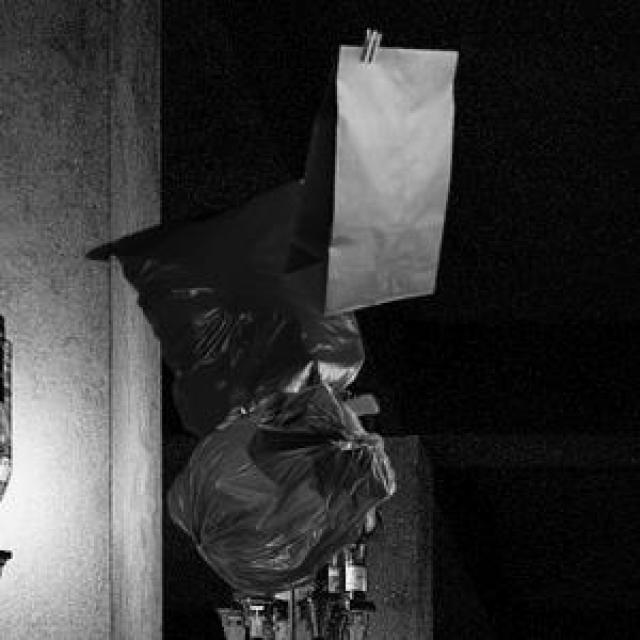miscellaneous trash: (83, 173, 373, 433), (164, 382, 390, 591)
paper: (280, 26, 451, 312)
